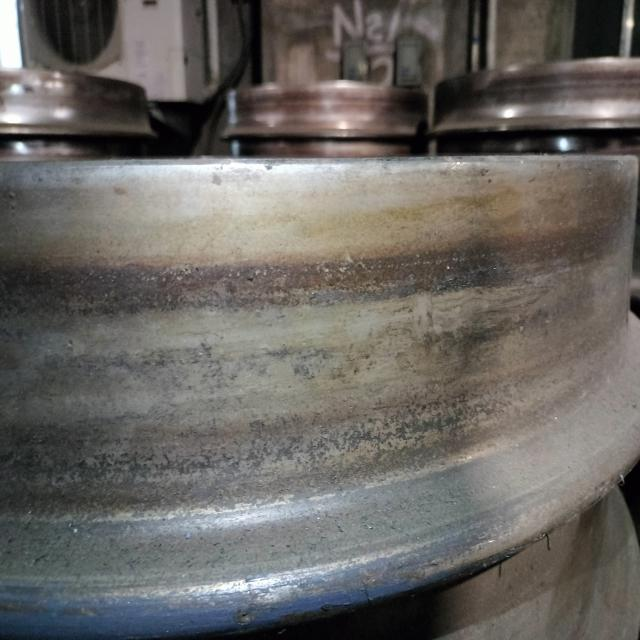Blue hole: (233, 599, 264, 631)
flat: (416, 251, 550, 380)
